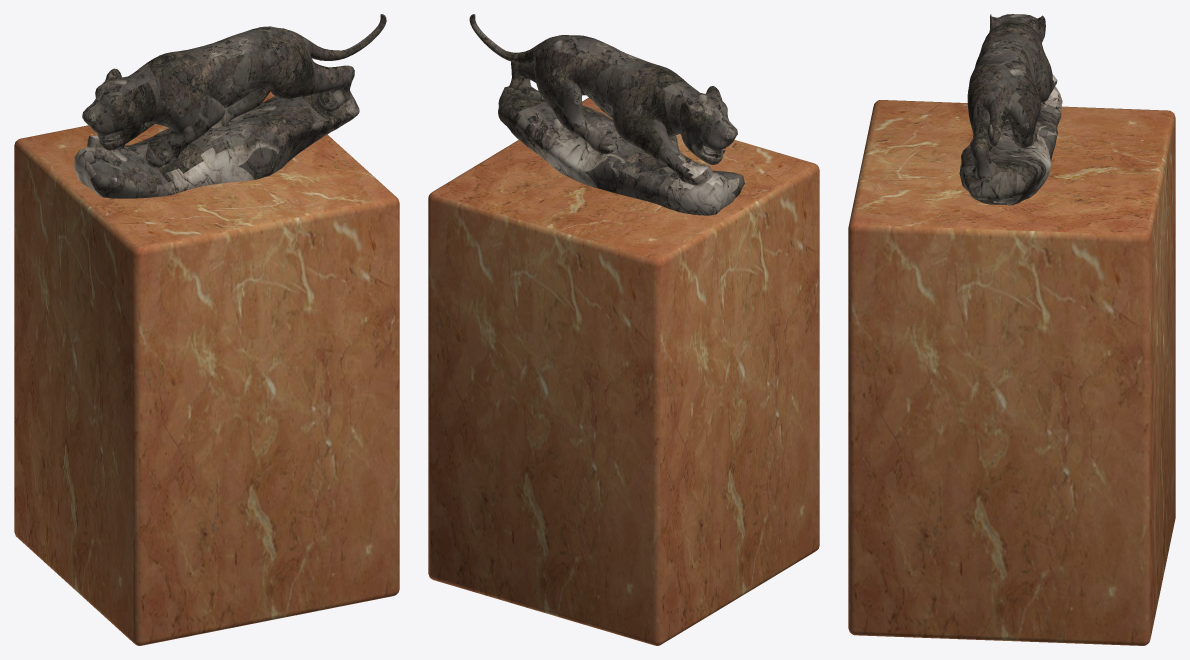
3 views of the same model, side by side, from view 1: azimuth 30°, elevation 25°; view 2: azimuth 150°, elevation 25°; view 3: azimuth 270°, elevation 25° (orthographic). The views are drawn at different scales.
Parts seen in each view (by area): view 1: object 2, Archmodels_64_040__0; view 2: object 2, Archmodels_64_040__0; view 3: object 2, Archmodels_64_040__0.
Part boxes in pixels (x1=…): object 2: x1=14, y1=91, x2=399, y2=645; Archmodels_64_040__0: x1=74, y1=14, x2=386, y2=198; object 2: x1=428, y1=98, x2=819, y2=645; Archmodels_64_040__0: x1=469, y1=14, x2=744, y2=215; object 2: x1=848, y1=100, x2=1175, y2=645; Archmodels_64_040__0: x1=959, y1=14, x2=1062, y2=205.
Bounding box in the file's own units: 0.1393 × 0.2287 × 0.1248.
